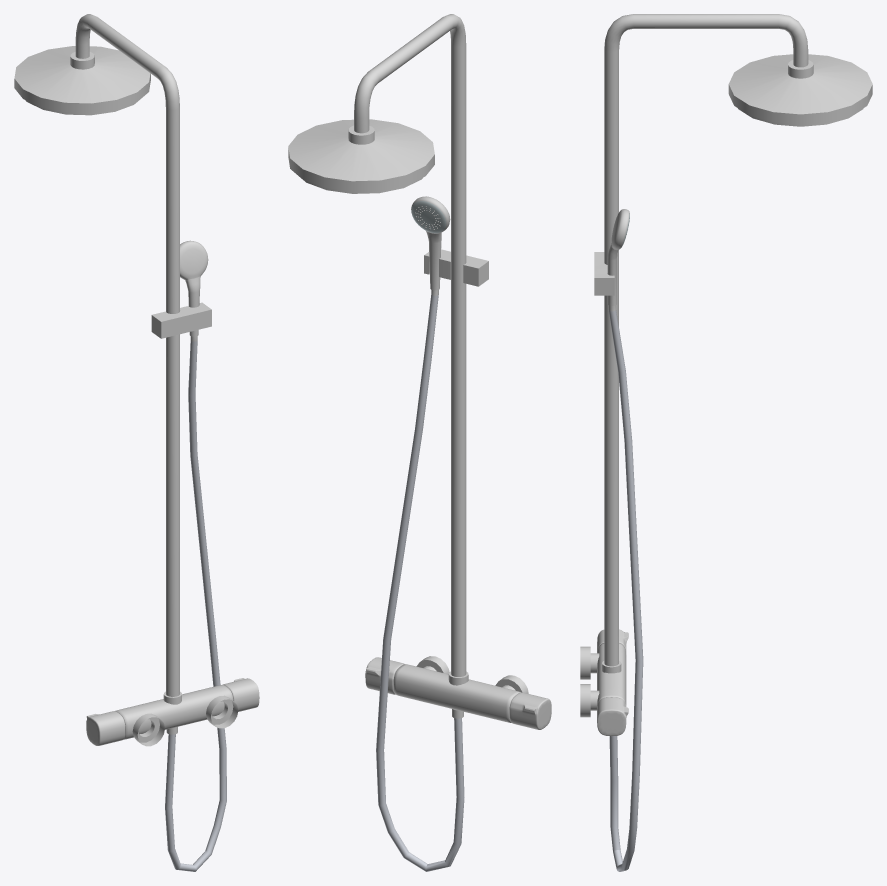
Rendered from ShowerSystem01.fbx.
The picture shows the model from 3 angles, left to right: view 1: azimuth 30°, elevation 25°; view 2: azimuth 150°, elevation 25°; view 3: azimuth 270°, elevation 25°; orthographic projection. The views are drawn at different scales.
Parts seen in each view (by area): view 1: ShowerSystem01, ShowerSystem01Lever01, ShowerSystem01Lever02; view 2: ShowerSystem01, ShowerSystem01Lever01, ShowerSystem01Lever02; view 3: ShowerSystem01, ShowerSystem01Lever02.
Boxes of the visible parts, box(x1,y1,x2,y2) form: ShowerSystem01: box(14, 14, 238, 871); ShowerSystem01Lever01: box(86, 711, 125, 745); ShowerSystem01Lever02: box(222, 678, 259, 711); ShowerSystem01: box(288, 14, 528, 871); ShowerSystem01Lever01: box(509, 692, 551, 729); ShowerSystem01Lever02: box(365, 657, 404, 694); ShowerSystem01: box(580, 14, 872, 871); ShowerSystem01Lever02: box(597, 697, 628, 736).
Bounding box in the file's own units: 32.08 × 154 × 48.5.
